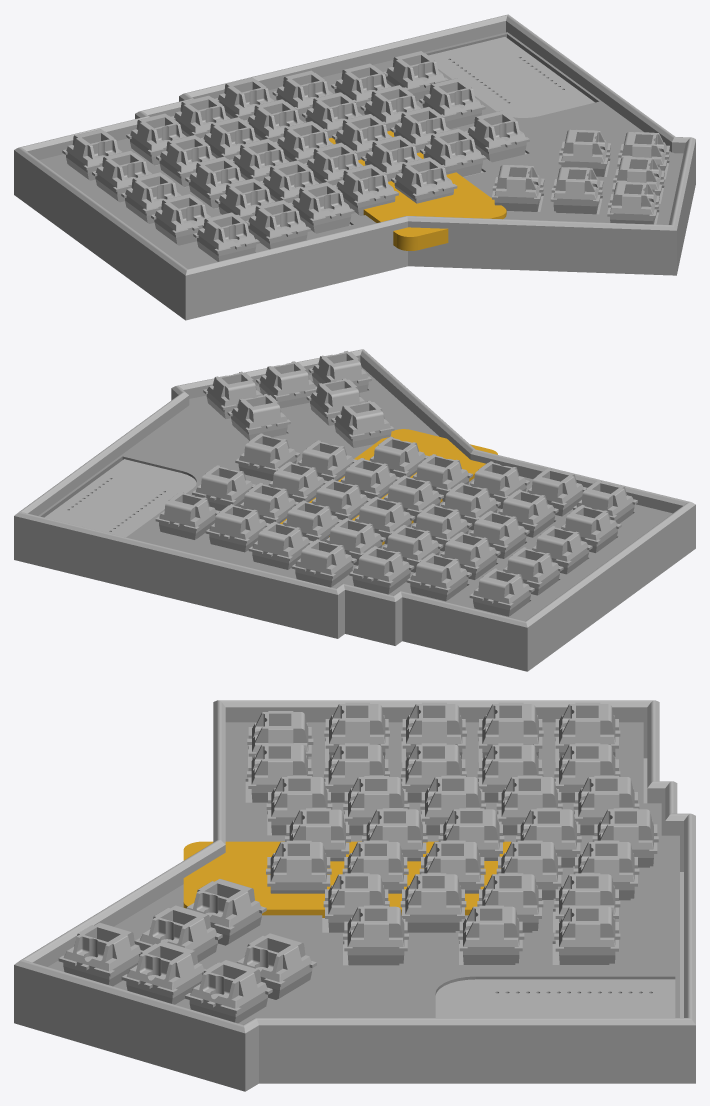
Rendered from split-left.glb.
3 renders of one model, top to bottom at view 1: azimuth 30°, elevation 25°; view 2: azimuth 150°, elevation 25°; view 3: azimuth 270°, elevation 25°, orthographic. The views are drawn at different scales.
Parts seen in each view (by area): view 1: object 1, Left Top, battery v1; view 2: object 1, Left Top, battery v1; view 3: object 1, Left Top, battery v1.
Part boxes in pixels (box(x1,y1,x2,y2)): object 1: box(14, 14, 695, 320); Left Top: box(39, 32, 683, 268); battery v1: box(328, 130, 506, 250); object 1: box(14, 349, 695, 671); Left Top: box(38, 367, 672, 621); battery v1: box(280, 429, 497, 544); object 1: box(14, 700, 695, 1091); Left Top: box(48, 722, 679, 1024); battery v1: box(183, 841, 510, 917).
Size of the model in its own units: 6368 by 742 by 5540.
